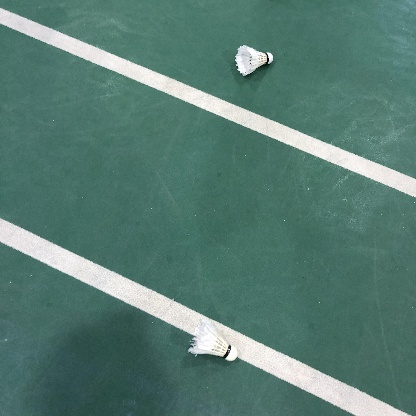ball_single: (188, 319, 238, 361), (235, 45, 273, 76)
